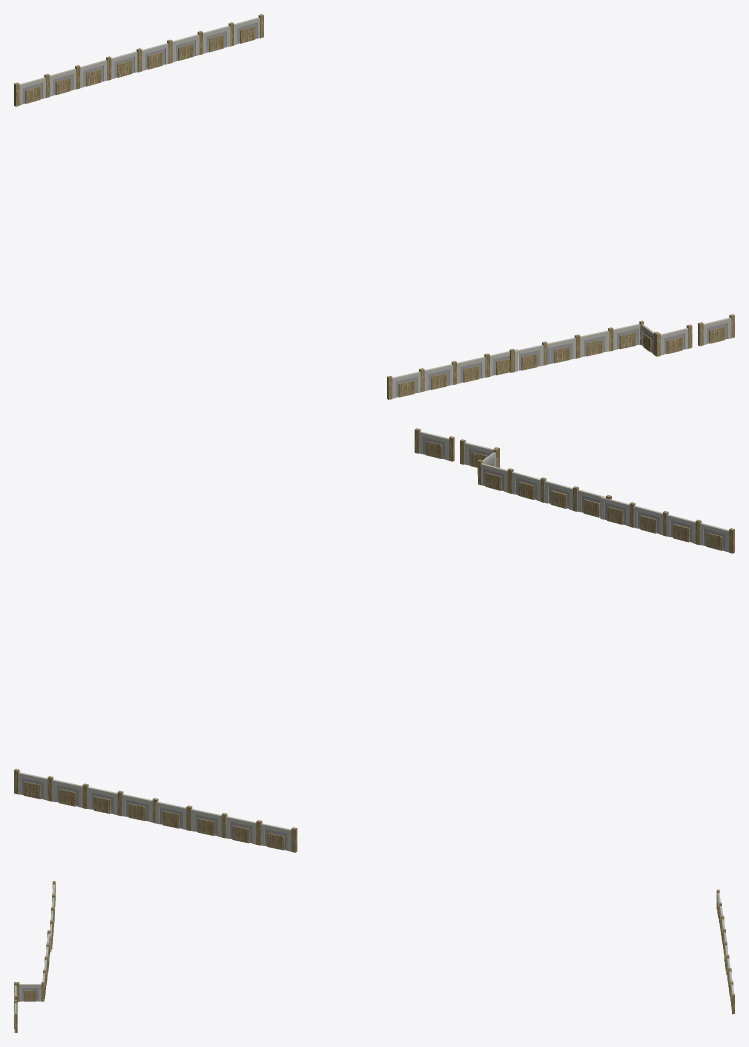
File: LayoutWalls_Ch.fbx
3 views of the same model, one above another, from view 1: azimuth 30°, elevation 25°; view 2: azimuth 150°, elevation 25°; view 3: azimuth 270°, elevation 25° (orthographic). The views are drawn at different scales.
Visible parts, largest first — view 1: LayoutWall4_LOD0, LayoutWall2_LOD0, LayoutWall5_LOD0, LayoutWall6_LOD0; view 2: LayoutWall2_LOD0, LayoutWall4_LOD0, LayoutWall6_LOD0, LayoutWall5_LOD0; view 3: LayoutWall2_LOD0, LayoutWall5_LOD0, LayoutWall4_LOD0.
Part boxes in pixels (x1,y1,x2,y2): LayoutWall4_LOD0: [387, 324, 640, 399]; LayoutWall2_LOD0: [14, 14, 263, 106]; LayoutWall5_LOD0: [639, 320, 692, 356]; LayoutWall6_LOD0: [698, 314, 734, 346]; LayoutWall2_LOD0: [14, 769, 297, 852]; LayoutWall4_LOD0: [480, 463, 734, 553]; LayoutWall6_LOD0: [414, 428, 454, 461]; LayoutWall5_LOD0: [460, 439, 499, 484]; LayoutWall2_LOD0: [716, 889, 734, 1014]; LayoutWall5_LOD0: [14, 982, 44, 1012]; LayoutWall4_LOD0: [42, 881, 55, 998].
Size of the model in its own units: 72.46 by 4.79 by 166.
